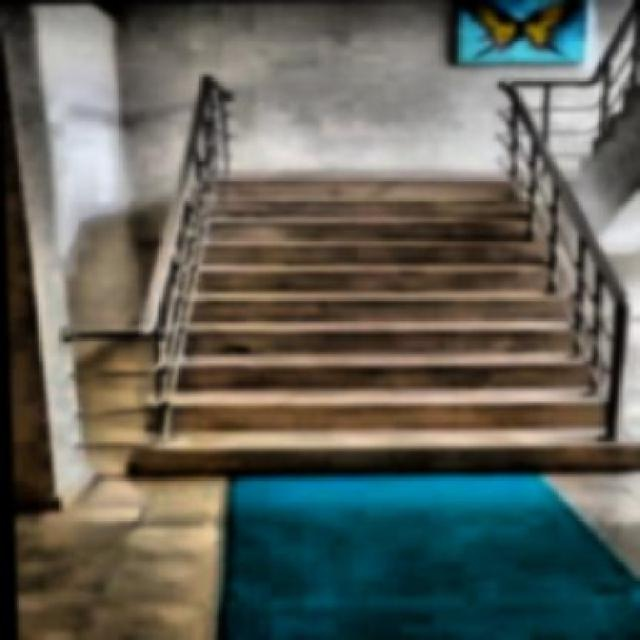stair: (126, 171, 640, 480)
